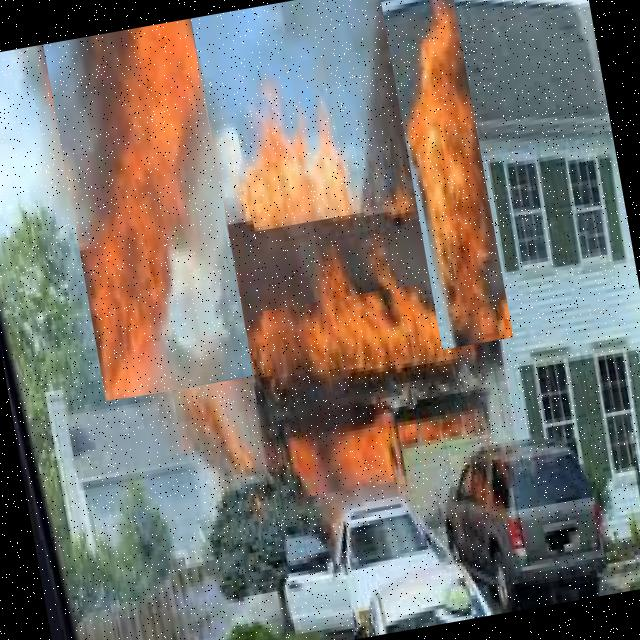fire: (42, 18, 254, 401), (380, 0, 512, 349), (247, 284, 456, 396), (230, 86, 354, 232), (293, 418, 397, 498)
